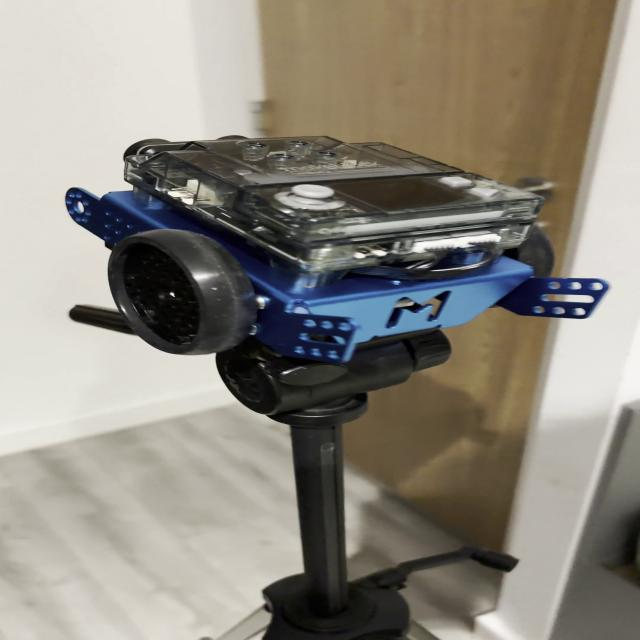mbot-detection: (55, 123, 618, 367)
